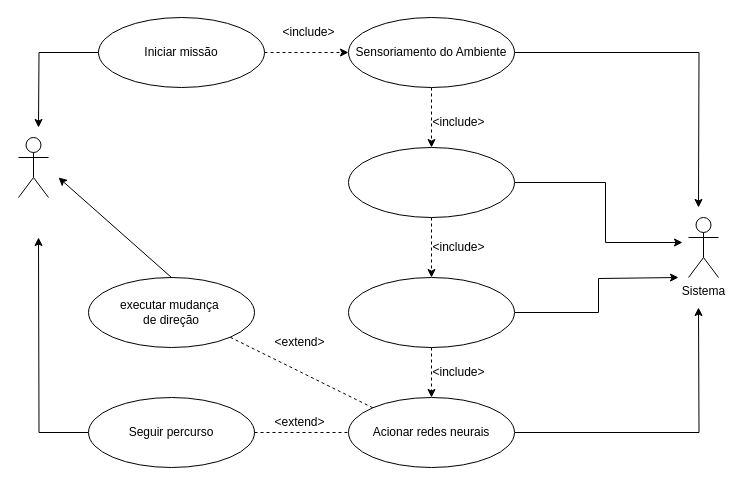
The diagram is 742 pixels wide and 485 high, and some of its shapes have lost their labels. Here are the shapes that lost their labels. From the top down, the box of each, then its label:
(18, 136, 48, 198): Drone
(348, 146, 514, 218): Processar Dados Sensoriais
(348, 276, 514, 348): Detecção de Ameaças
